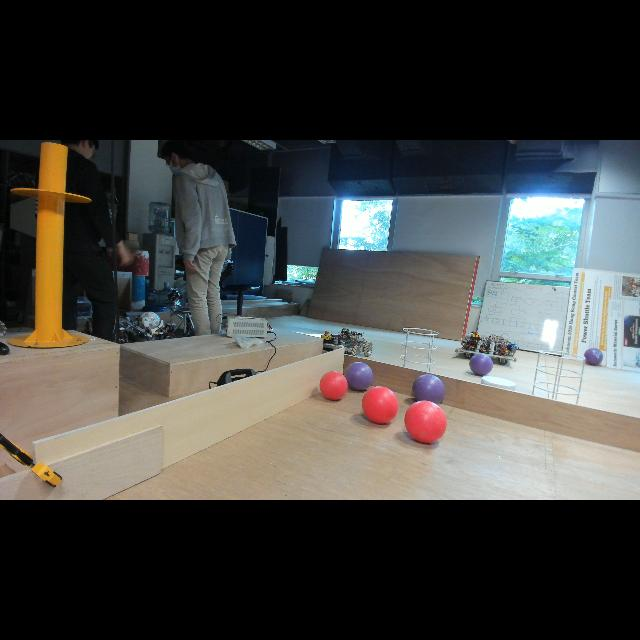P: (412, 374, 446, 406), (344, 362, 374, 392), (469, 354, 493, 376), (584, 348, 604, 366)
R: (404, 401, 448, 444), (362, 386, 398, 424), (320, 371, 348, 401)
S: (530, 350, 586, 414), (400, 327, 440, 375)
